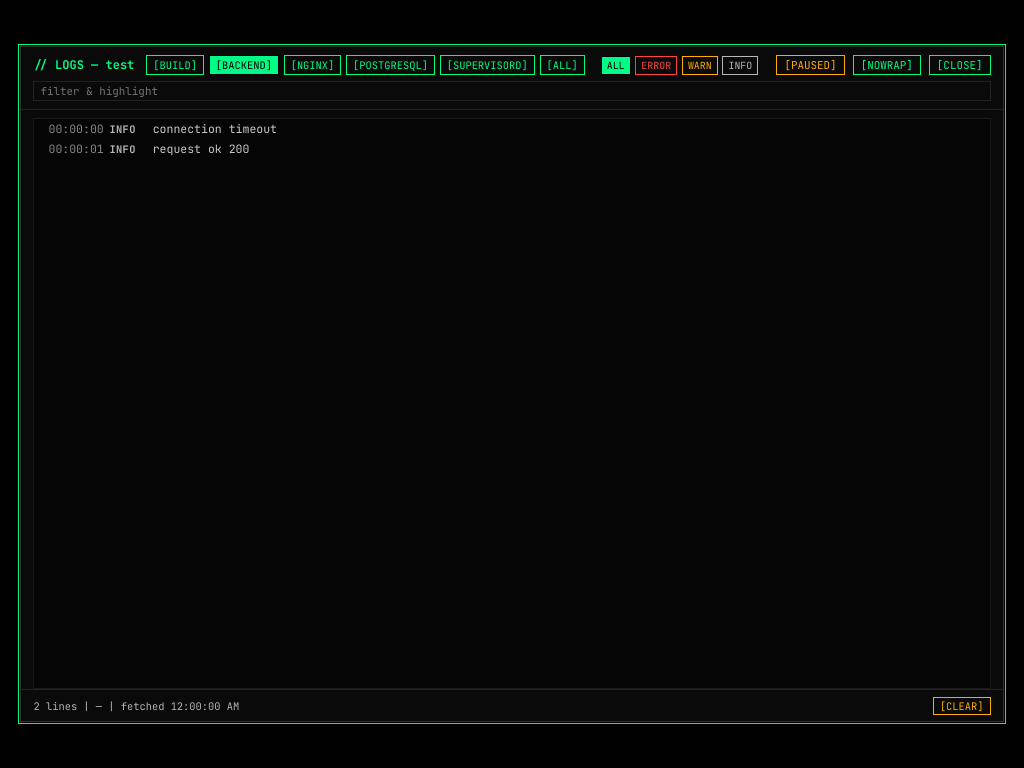
LogPanel — combined filter + highlight input › hides rows that do not match the filter text
Expected: the text "connection timeout" is shown, [153, 122, 277, 136]
Type "timeout" into the field with placeholder "filter & highlight".
click(512, 92); type("timeout")  # box [34, 82, 990, 102]
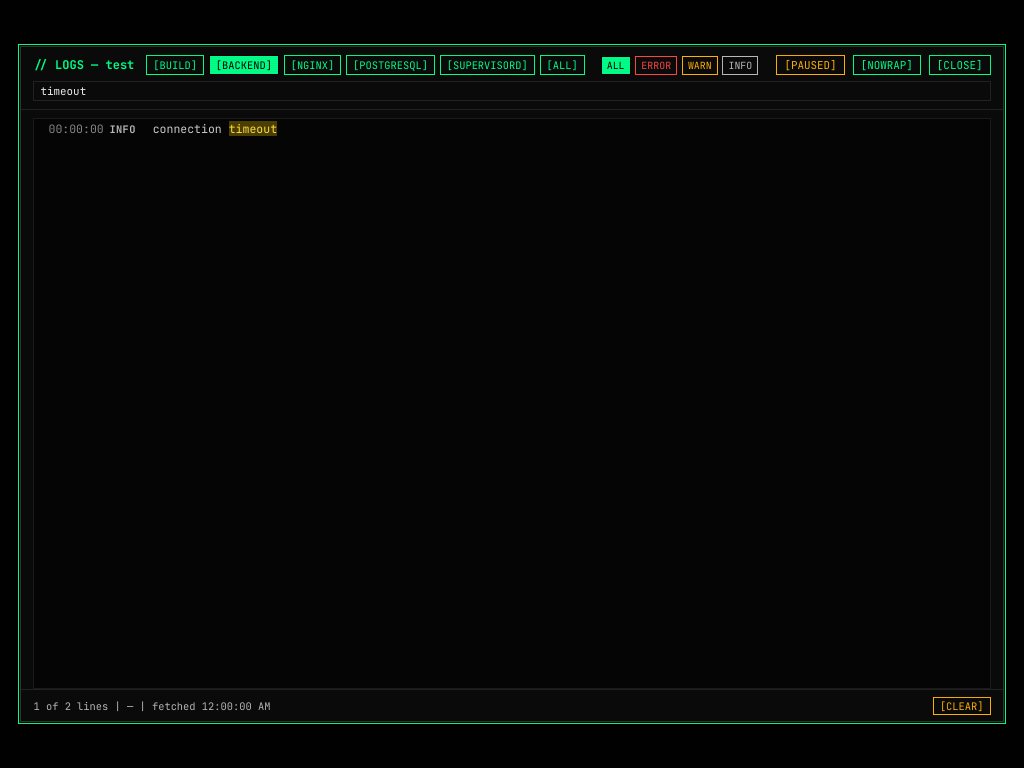
Expected: the text "connection timeout" is shown, [153, 122, 277, 136]
Expected: the button "request ok 200" is gone
